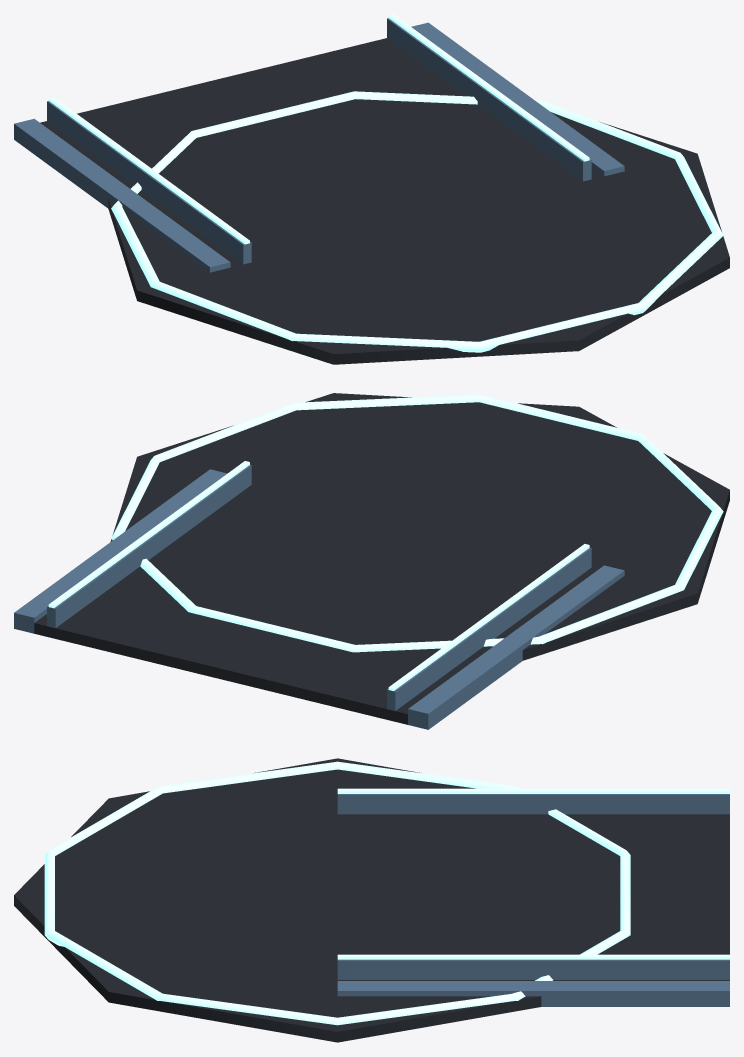
Rendered from road_future_dead_end_lod1.glb.
3 views of the same model, one above another, from view 1: azimuth 30°, elevation 25°; view 2: azimuth 150°, elevation 25°; view 3: azimuth 270°, elevation 25° (orthographic).
Parts seen in each view (by area): view 1: body; view 2: body; view 3: body.
Boxes of the visible parts, left/top/right/bottom form: body: left=14, top=14, right=729, bottom=364; body: left=14, top=393, right=729, bottom=729; body: left=14, top=758, right=729, bottom=1042.
Size of the model in its own units: 6.6 by 0.37 by 7.3.
